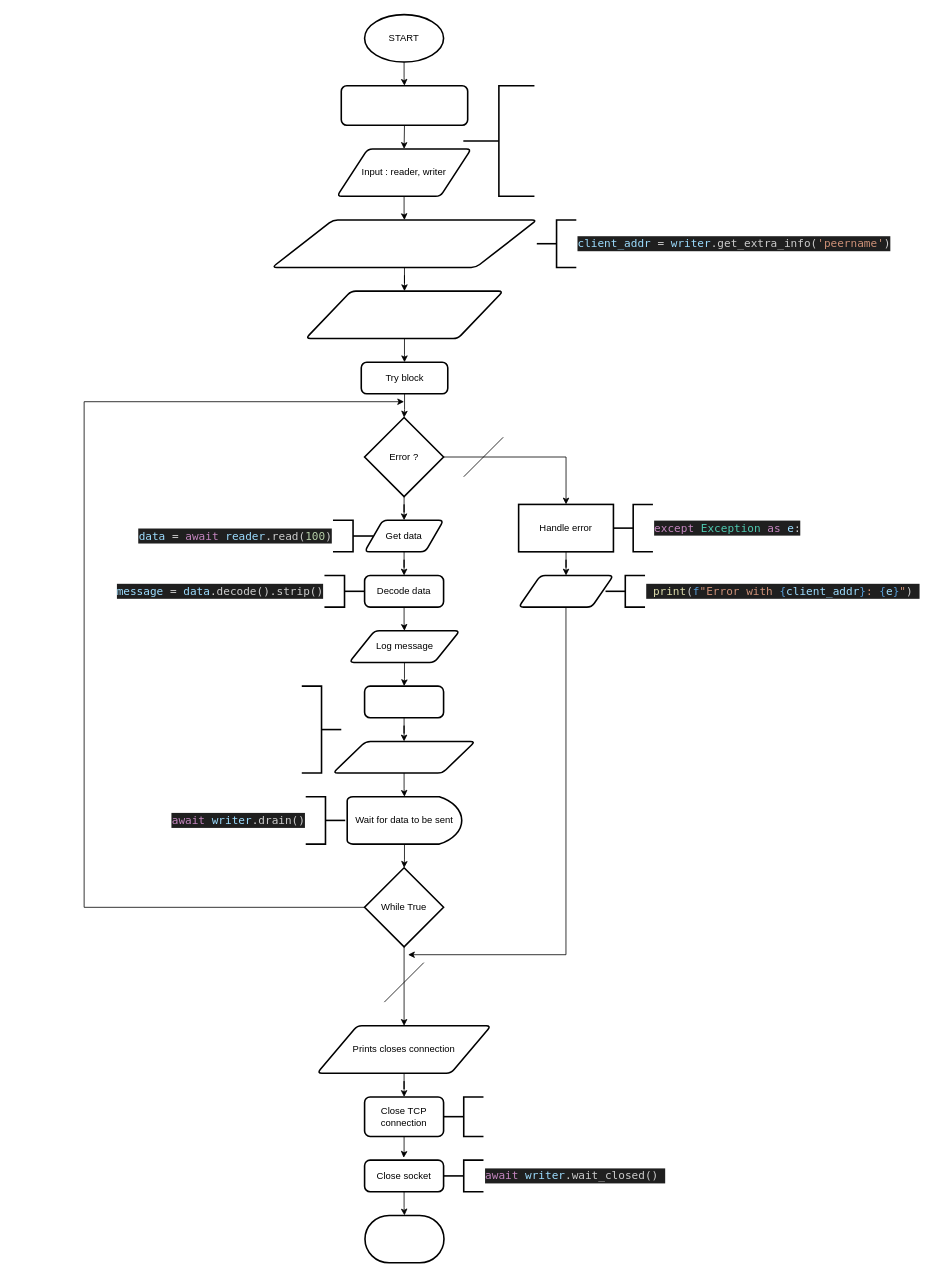
The diagram is 934 pixels wide and 1277 high, and some of its shapes have lost their labels. The box of each missing label's shape, as (x1, y1, x2, y2) in pixels:
async def handle_client ( reader , writer ):: (462, 85, 535, 197)
Encode data: (363, 685, 444, 718)
handle_client function: (340, 85, 468, 126)
Print error: (517, 574, 614, 608)
Print the IP and port for logs: (305, 290, 504, 339)
Recieve IP and port of client from write: (271, 219, 537, 268)
Send data to client: (332, 740, 476, 773)
STOP: (364, 1214, 444, 1263)
writer .close(): (443, 1096, 484, 1137)
writer .write( f "ECHO: { message } \n " . encode ()): (301, 685, 342, 773)
